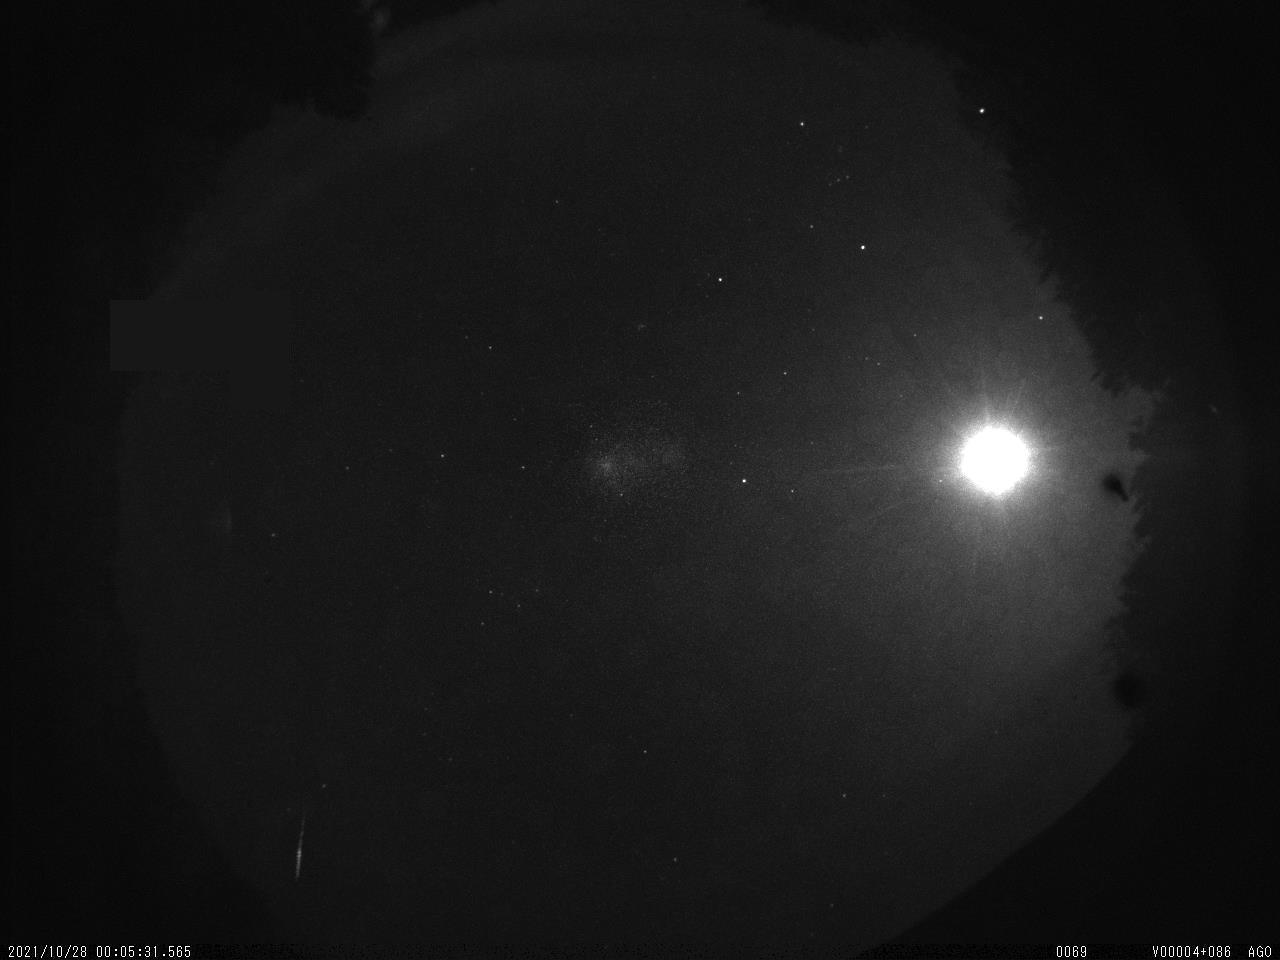Meteor: (288, 805, 309, 883)
